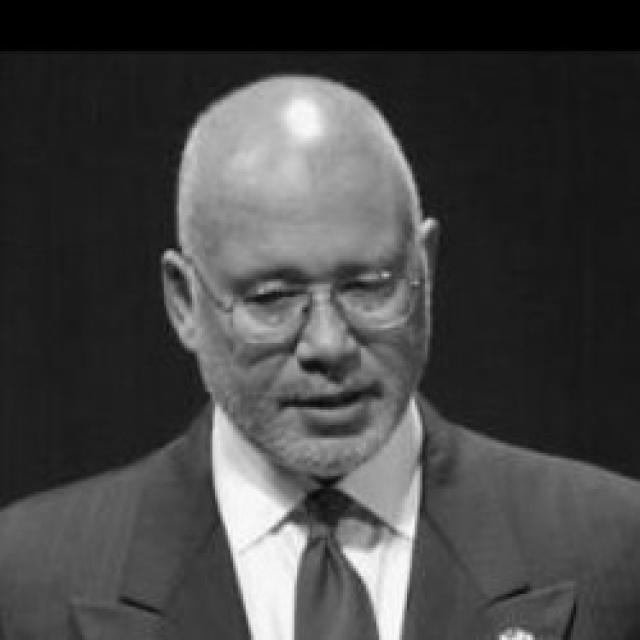real: (154, 78, 448, 472), (197, 264, 419, 342)
